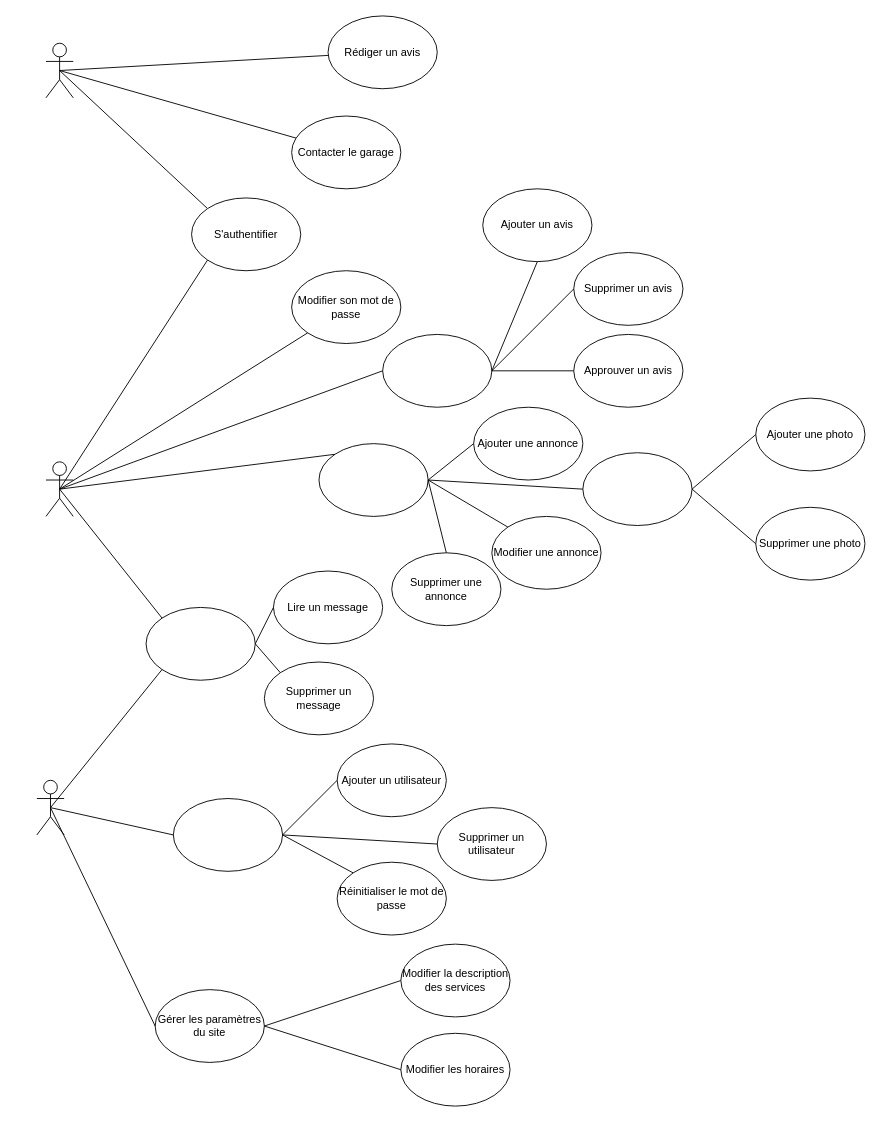
Image size: 881x1122. Some labels were removed from this diagram. Here are the shapes that lost their labels. From the top down, the centre of each, then its label:
At pixel 59 70: "Visiteur".
At pixel 437 370: "Gérer les avis".
At pixel 59 488: "Employé".
At pixel 373 479: "Gérer les annonces".
At pixel 637 489: "Gérer les photos".
At pixel 200 643: "Gérer les messages".
At pixel 50 807: "Administrateur".
At pixel 227 834: "Gérer les utilisateurs".
